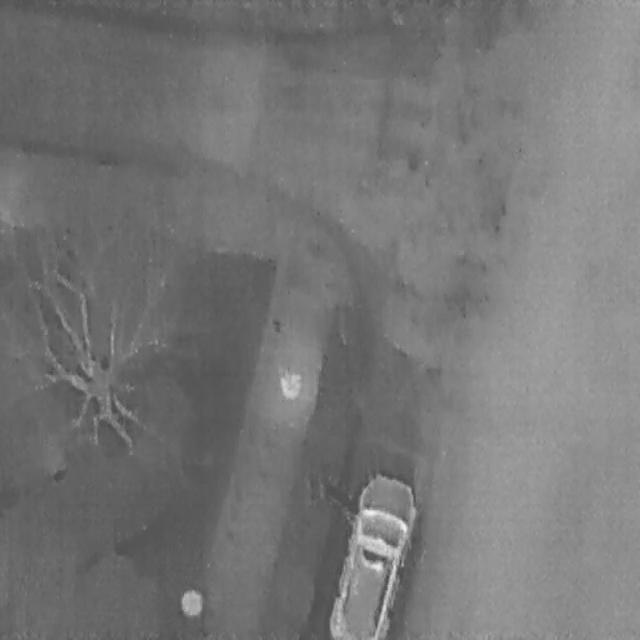Car: (329, 469, 415, 635)
